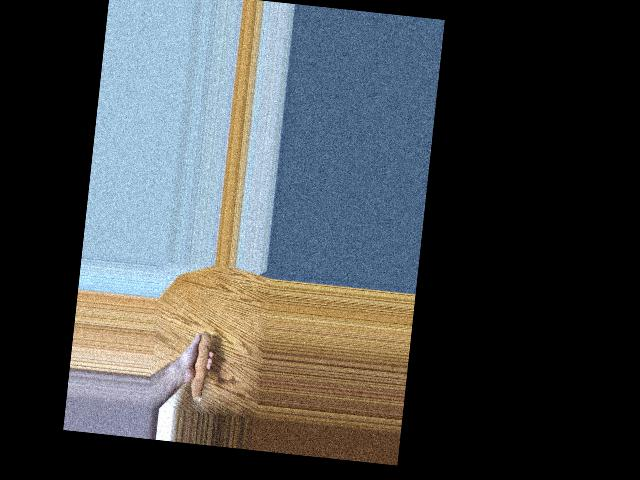sweet_potato: (184, 325, 215, 403)
